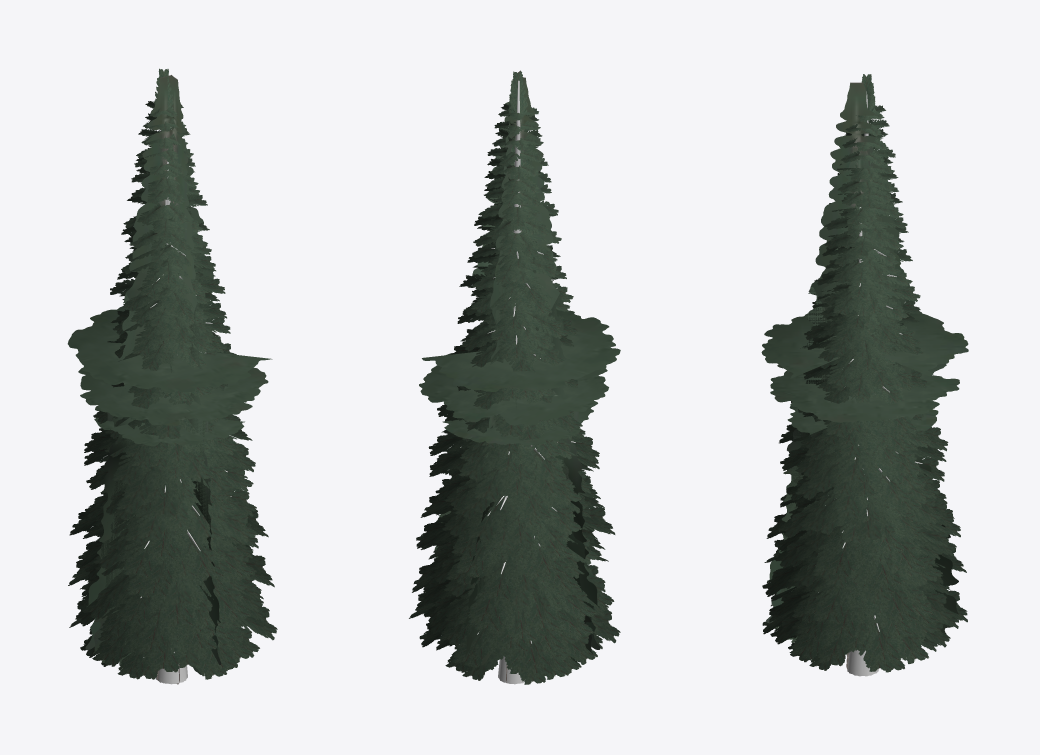
The model's file is tree-spruce.glb.
3 views of the same model, side by side, from view 1: azimuth 30°, elevation 25°; view 2: azimuth 150°, elevation 25°; view 3: azimuth 270°, elevation 25° (orthographic). The views are drawn at different scales.
Visible parts, largest first — view 1: lod0-leaves-1, impostor-1, lod0-leaves-0, impostor-0, lod0-leaves-2, impostor-2; view 2: lod0-leaves-1, lod0-leaves-0, impostor-1, impostor-0, lod0-leaves-2, impostor-2, lod0-wood-1; view 3: lod0-leaves-1, lod0-leaves-0, impostor-1, impostor-0, lod0-leaves-2, impostor-2.
Part boxes in pixels (x1,y1,x2,y2): lod0-leaves-1: [68, 68, 277, 673]; impostor-1: [67, 75, 272, 684]; lod0-leaves-0: [80, 143, 263, 679]; impostor-0: [78, 144, 268, 682]; lod0-leaves-2: [98, 200, 244, 679]; impostor-2: [94, 201, 244, 677]; lod0-leaves-1: [409, 71, 620, 677]; lod0-leaves-0: [419, 138, 608, 679]; impostor-1: [422, 70, 620, 681]; impostor-0: [419, 149, 608, 682]; lod0-leaves-2: [436, 218, 587, 684]; impostor-2: [442, 206, 593, 673]; lod0-wood-1: [477, 80, 575, 683]; lod0-leaves-1: [762, 74, 967, 663]; lod0-leaves-0: [770, 152, 958, 671]; impostor-1: [761, 82, 968, 668]; impostor-0: [770, 147, 959, 669]; lod0-leaves-2: [788, 203, 937, 672]; impostor-2: [787, 215, 938, 662].
Size of what is drawn, in the model's own units: 11.35 by 22.9 by 11.35.
5 materials, 4 textured.
